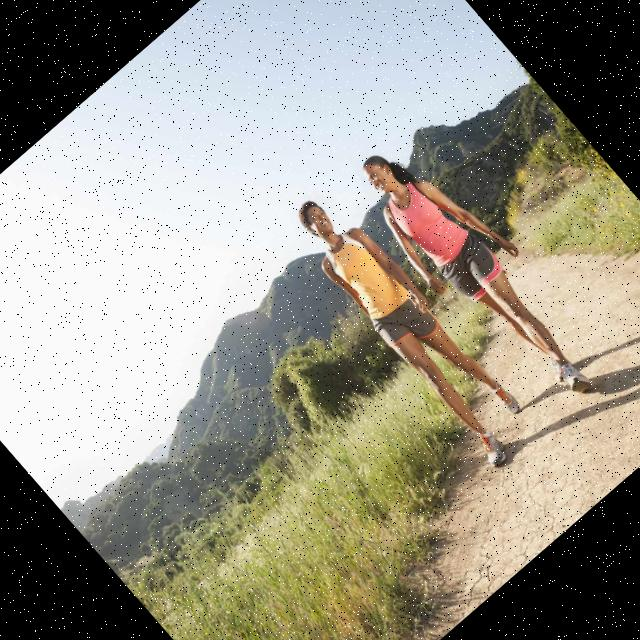Person: (341, 123, 618, 424), (280, 181, 542, 469)
